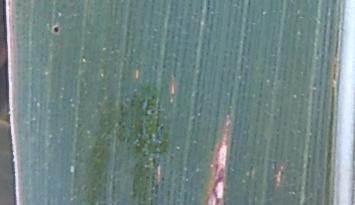tarspot: (52, 24, 61, 34)
